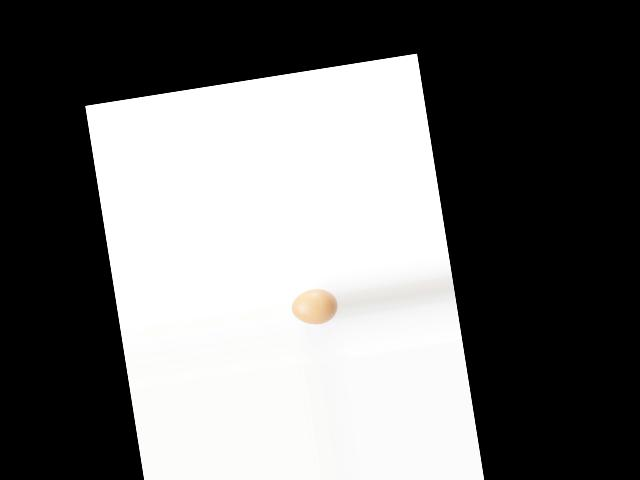egg: (289, 286, 340, 328)
